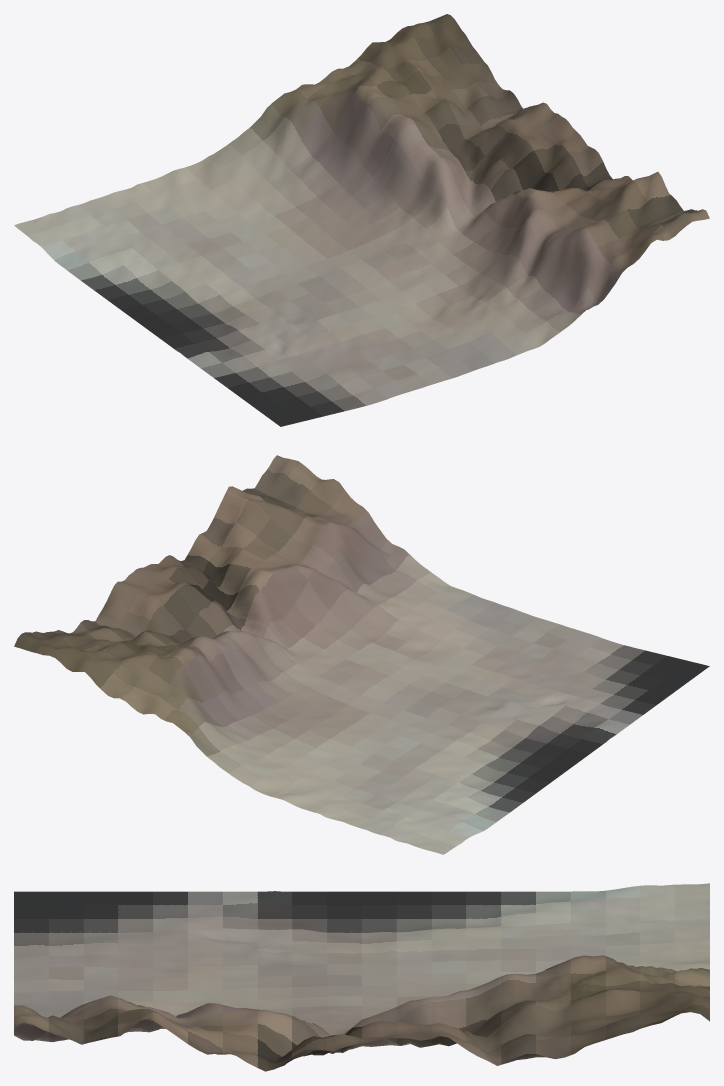
Rendered from antofagasta.gltf.
3 renders of one model, top to bottom at view 1: azimuth 30°, elevation 25°; view 2: azimuth 150°, elevation 25°; view 3: azimuth 270°, elevation 25°, orthographic. The views are drawn at different scales.
Parts seen in each view (by area): view 1: TerrainNode.001; view 2: TerrainNode.001; view 3: TerrainNode.001.
Boxes of the visible parts, x1=… form: TerrainNode.001: x1=14, y1=14, x2=709, y2=426; TerrainNode.001: x1=14, y1=455, x2=709, y2=854; TerrainNode.001: x1=14, y1=883, x2=709, y2=1071.
Bounding box in the file's own units: 6.86 × 1.79 × 7.38.
Materials: 1 (1 with a texture image).
